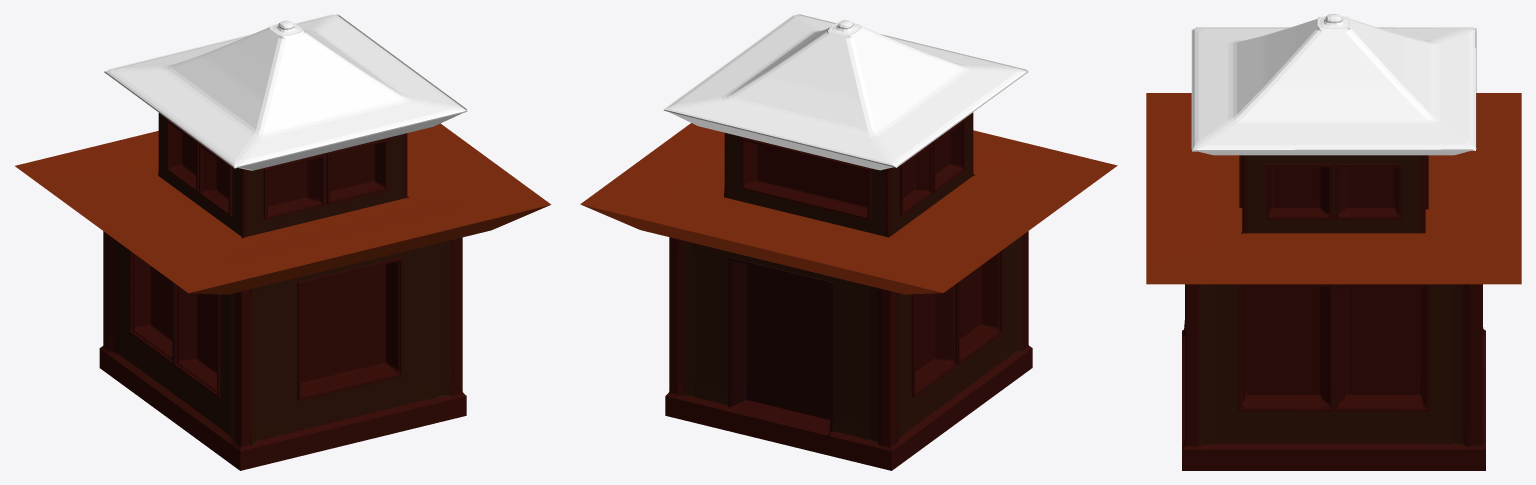
3 renders of one model, left to right at view 1: azimuth 30°, elevation 25°; view 2: azimuth 150°, elevation 25°; view 3: azimuth 270°, elevation 25°, orthographic. The views are drawn at different scales.
Visible parts, largest first — view 1: ev3.001; view 2: ev3.001; view 3: ev3.001.
Part boxes in pixels (left/top/right/bottom): ev3.001: left=15, top=14, right=551, bottom=470; ev3.001: left=580, top=14, right=1117, bottom=470; ev3.001: left=1146, top=14, right=1521, bottom=470.
Bounding box in the file's own units: 73.99 × 71.72 × 61.4.
